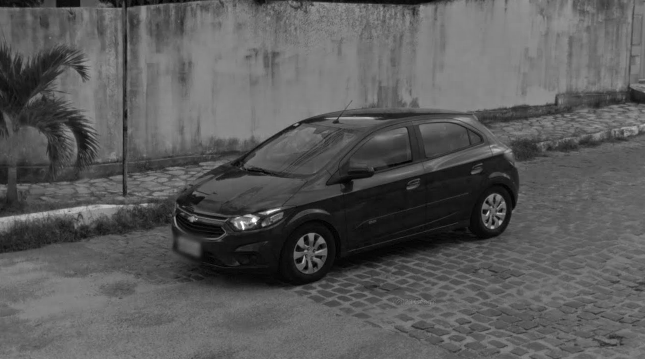car: (166, 98, 531, 286)
